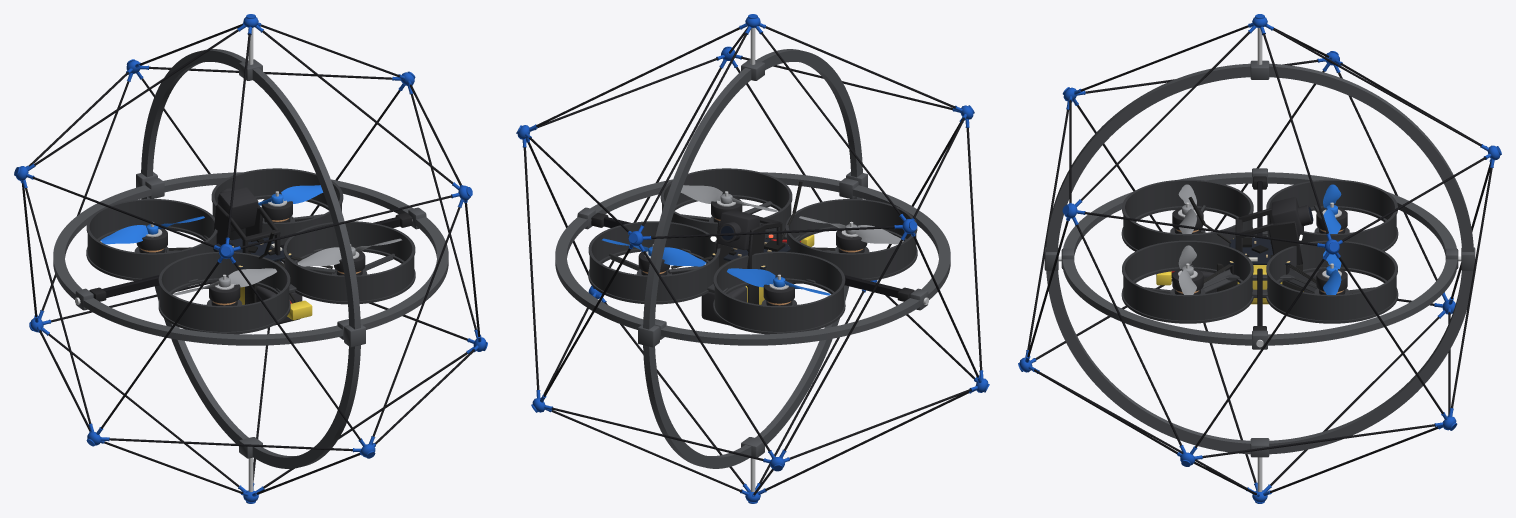
The model's file is ball_drone85.glb.
The picture shows the model from 3 angles, left to right: view 1: azimuth 30°, elevation 25°; view 2: azimuth 150°, elevation 25°; view 3: azimuth 270°, elevation 25°; orthographic projection.
Visible parts, largest first — view 1: quad_PP_frame_grey, cage_Carbon_rod_1mm, ring_big_PETG_ring_graphite, ring_small_PETG_ring_graphite, cage_TPU95A_blue, quad_Motor_bell_black, quad_TPU_black, quad_Caddx_body, prop_1_PC_prop_blue, prop_2_PC_prop_grey, quad_Carbon_rod_1mm, prop_3_PC_prop_grey (+1 smaller); view 2: quad_PP_frame_grey, cage_Carbon_rod_1mm, ring_big_PETG_ring_graphite, ring_small_PETG_ring_graphite, cage_TPU95A_blue, quad_Motor_bell_black, quad_TPU_black, quad_Caddx_body, prop_1_PC_prop_blue, prop_3_PC_prop_grey, prop_2_PC_prop_grey, prop_0_PC_prop_blue (+2 smaller); view 3: quad_PP_frame_grey, ring_big_PETG_ring_graphite, cage_Carbon_rod_1mm, ring_small_PETG_ring_graphite, cage_TPU95A_blue, quad_TPU_black, quad_Motor_bell_black, quad_Caddx_body, prop_3_PC_prop_grey, prop_1_PC_prop_blue, quad_Carbon_rod_1mm, prop_2_PC_prop_grey (+2 smaller).
Boxes of the visible parts, x1,y1,x2,y2 form: quad_PP_frame_grey: (86,168,415,334); cage_Carbon_rod_1mm: (22,24,480,494); ring_big_PETG_ring_graphite: (136,49,365,468); ring_small_PETG_ring_graphite: (53,172,448,345); cage_TPU95A_blue: (14,14,487,503); quad_Motor_bell_black: (136,197,365,305); quad_TPU_black: (89,204,412,301); quad_Caddx_body: (217,187,258,231); prop_1_PC_prop_blue: (100,216,204,244); prop_2_PC_prop_grey: (173,268,276,295); quad_Carbon_rod_1mm: (102,216,399,297); prop_3_PC_prop_grey: (297,238,401,266); quad_PP_frame_grey: (588,168,917,334); cage_Carbon_rod_1mm: (523,26,982,495); ring_big_PETG_ring_graphite: (638,49,867,468); ring_small_PETG_ring_graphite: (555,172,950,345); cage_TPU95A_blue: (516,14,989,503); quad_Motor_bell_black: (638,197,867,305); quad_TPU_black: (591,213,914,301); quad_Caddx_body: (717,210,760,250); prop_1_PC_prop_blue: (727,268,830,295); prop_3_PC_prop_grey: (680,185,778,212); prop_2_PC_prop_grey: (799,216,903,244); prop_0_PC_prop_blue: (602,238,706,266); quad_PP_frame_grey: (1121,179,1398,323); ring_big_PETG_ring_graphite: (1044,60,1475,457); cage_Carbon_rod_1mm: (1027,25,1492,495); ring_small_PETG_ring_graphite: (1061,168,1458,349); cage_TPU95A_blue: (1018,14,1501,503); quad_TPU_black: (1230,176,1302,330); quad_Motor_bell_black: (1172,208,1347,294); quad_Caddx_body: (1271,197,1312,238); prop_3_PC_prop_grey: (1178,245,1196,294); prop_1_PC_prop_blue: (1323,184,1341,233); quad_Carbon_rod_1mm: (1257,181,1262,325); prop_2_PC_prop_grey: (1178,184,1196,233).
Bounding box in the file's own units: 0.1982 × 0.2304 × 0.208.
